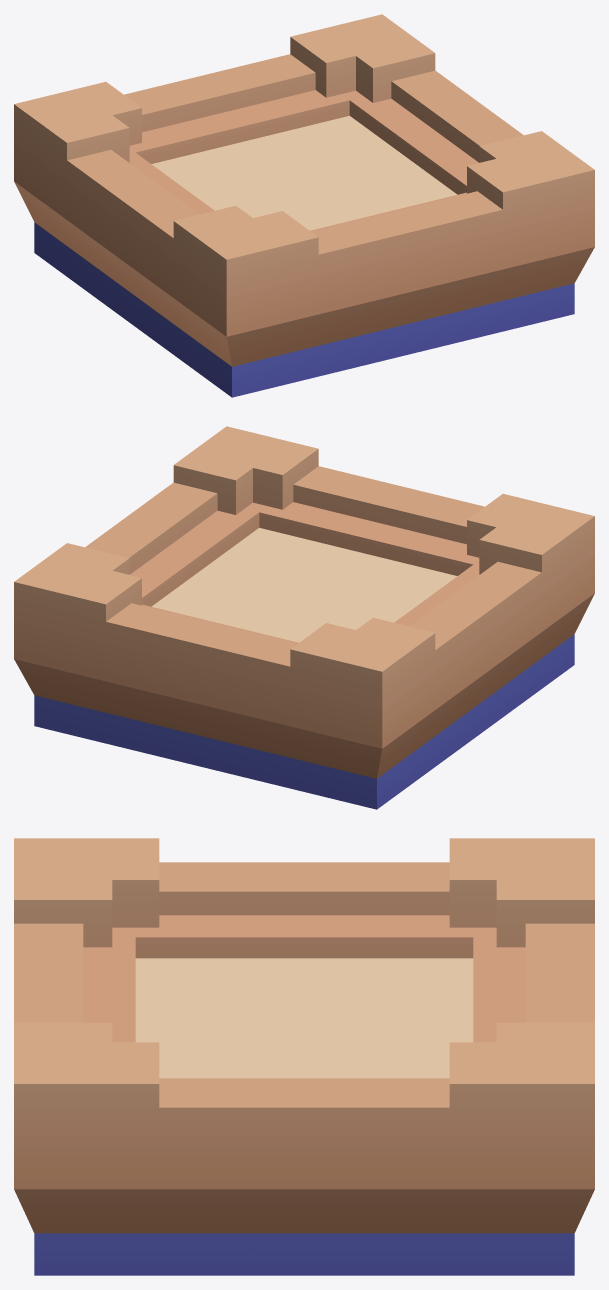
File: kenney-castle-tower-square-top-color.glb
The picture shows the model from 3 angles, top to bottom: view 1: azimuth 30°, elevation 25°; view 2: azimuth 150°, elevation 25°; view 3: azimuth 270°, elevation 25°; orthographic projection. The views are drawn at different scales.
Parts seen in each view (by area): view 1: tower-square-top-color; view 2: tower-square-top-color; view 3: tower-square-top-color.
Boxes of the visible parts, bbox=[...] form: tower-square-top-color: bbox=[14, 14, 594, 397]; tower-square-top-color: bbox=[14, 426, 594, 809]; tower-square-top-color: bbox=[14, 838, 594, 1275].
Size of the model in its own units: 1 by 0.38 by 1.
Materials: 1 (1 with a texture image).
